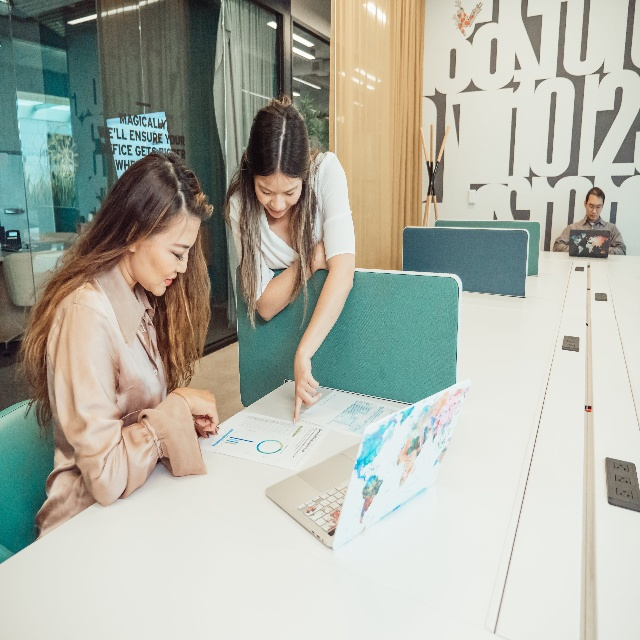Gafas: (586, 201, 603, 211)
Sin_guantes: (293, 350, 322, 424), (175, 386, 219, 431), (198, 425, 219, 437)
